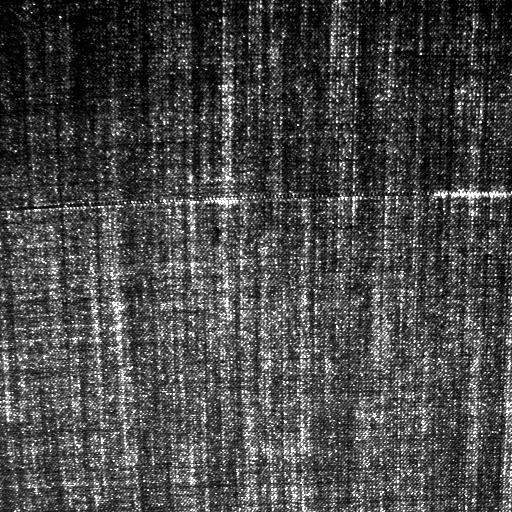fabric_broken_pick: (34, 190, 506, 210)
